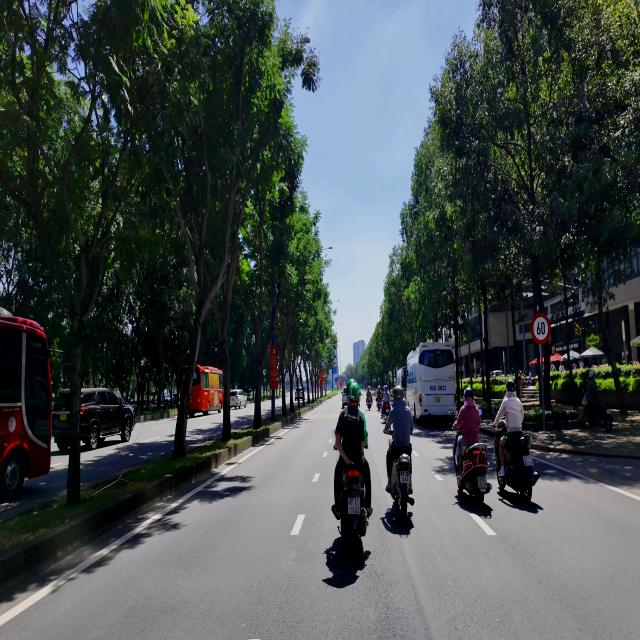car: (80, 389, 135, 449), (230, 390, 246, 408), (295, 387, 304, 401), (342, 387, 348, 407)
motorcycle: (498, 433, 539, 502), (453, 431, 491, 505), (340, 464, 368, 561), (382, 402, 390, 423), (367, 397, 372, 410), (377, 398, 381, 410), (389, 439, 392, 446)
